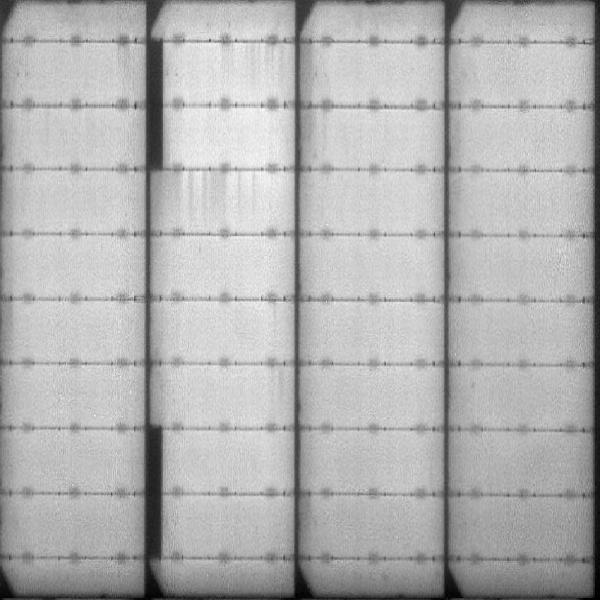black_border: (138, 420, 168, 560), (144, 41, 166, 177)
